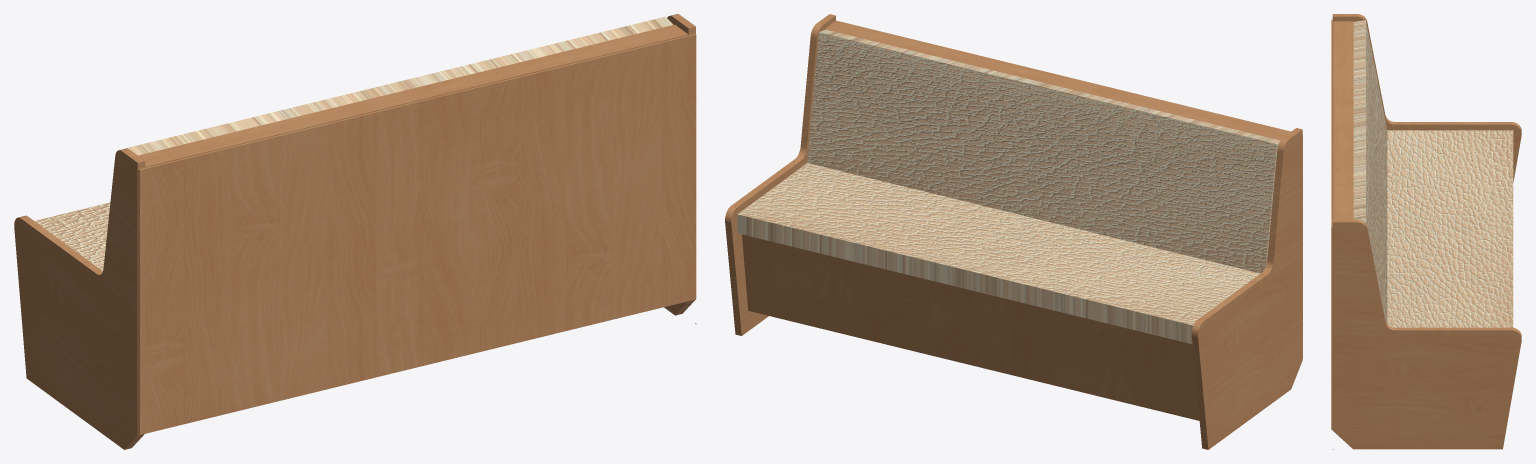
Rendered from divan_malvina_3_polumjagkij.glb.
3 renders of one model, left to right at view 1: azimuth 30°, elevation 25°; view 2: azimuth 150°, elevation 25°; view 3: azimuth 270°, elevation 25°, orthographic. The views are drawn at different scales.
Visible parts, largest first — view 1: Shape_IndexedFaceSet_NON, Shape_IndexedFaceSet.006, Shape_IndexedFaceSet.004, Shape_IndexedFaceSet.001_NON, Shape_IndexedFaceSet.003_NON; view 2: Shape_IndexedFaceSet.001_NON, Shape_IndexedFaceSet.003_NON, Shape_IndexedFaceSet.002, Shape_IndexedFaceSet.006, Shape_IndexedFaceSet.004, Shape_IndexedFaceSet.007, Shape_IndexedFaceSet_NON; view 3: Shape_IndexedFaceSet.007, Shape_IndexedFaceSet.003_NON, Shape_IndexedFaceSet.001_NON, Shape_IndexedFaceSet.004, Shape_IndexedFaceSet.006, Shape_IndexedFaceSet_NON.
Boxes of the visible parts, <box> form: Shape_IndexedFaceSet_NON: <box>138,33,696,434</box>; Shape_IndexedFaceSet.006: <box>14,148,145,449</box>; Shape_IndexedFaceSet.004: <box>138,24,688,167</box>; Shape_IndexedFaceSet.001_NON: <box>125,16,672,155</box>; Shape_IndexedFaceSet.003_NON: <box>34,202,110,270</box>; Shape_IndexedFaceSet.001_NON: <box>807,29,1280,273</box>; Shape_IndexedFaceSet.003_NON: <box>737,163,1260,344</box>; Shape_IndexedFaceSet.002: <box>742,234,1199,420</box>; Shape_IndexedFaceSet.006: <box>1191,128,1302,449</box>; Shape_IndexedFaceSet.004: <box>824,21,1290,140</box>; Shape_IndexedFaceSet.007: <box>725,14,835,335</box>; Shape_IndexedFaceSet_NON: <box>836,20,1302,358</box>; Shape_IndexedFaceSet.007: <box>1332,219,1521,449</box>; Shape_IndexedFaceSet.003_NON: <box>1387,130,1513,327</box>; Shape_IndexedFaceSet.001_NON: <box>1353,20,1387,323</box>; Shape_IndexedFaceSet.004: <box>1333,21,1353,219</box>; Shape_IndexedFaceSet.006: <box>1332,14,1521,219</box>; Shape_IndexedFaceSet_NON: <box>1331,19,1332,429</box>.
Size of the model in its own units: 1201 by 611 by 464.
Materials: 9 (8 with a texture image).
